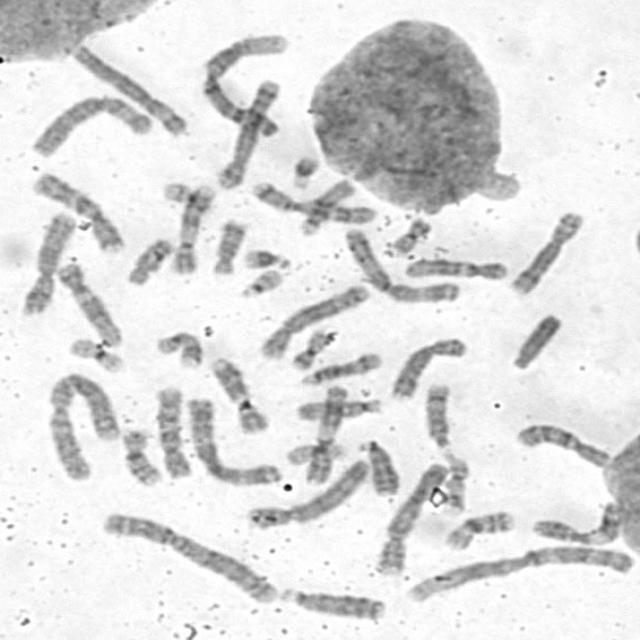A1: (400, 550, 638, 607), (200, 33, 294, 138)
A2: (102, 511, 280, 607), (45, 373, 122, 485)
A3: (344, 226, 461, 303), (184, 396, 283, 486)
B4: (244, 458, 370, 530), (374, 462, 451, 576)
B5: (260, 282, 371, 358), (215, 78, 283, 189)
C10: (511, 420, 613, 469), (153, 386, 195, 479)
C11: (303, 382, 348, 488), (530, 502, 624, 548)
C12: (53, 261, 127, 348), (405, 257, 509, 283)
C6: (69, 42, 191, 137), (33, 96, 156, 164)
C7: (28, 168, 128, 255), (250, 178, 378, 224)
C8: (509, 210, 583, 298), (390, 337, 468, 401)
C9: (209, 356, 269, 434), (170, 184, 214, 276)
D13: (279, 588, 389, 623), (356, 437, 403, 496)
D14: (295, 353, 386, 386), (424, 382, 456, 458)
D15: (296, 178, 358, 237), (293, 397, 384, 423)
E16: (441, 510, 517, 552), (121, 429, 164, 486)
E17: (156, 329, 204, 372), (442, 456, 468, 518)
E18: (123, 236, 172, 288), (210, 218, 249, 274)
F19: (68, 337, 128, 374), (285, 442, 349, 468)
F20: (292, 330, 334, 370), (391, 217, 434, 254)
G21: (290, 153, 322, 189), (244, 247, 293, 270)
G22: (238, 270, 286, 298), (162, 180, 207, 208)
X: (18, 214, 77, 316)
Y: (509, 312, 565, 370)
